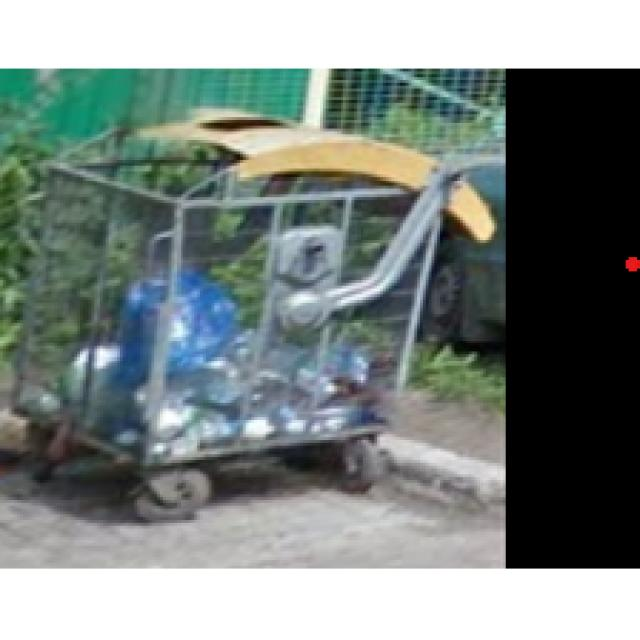plastic trash bin: (42, 108, 492, 514)
